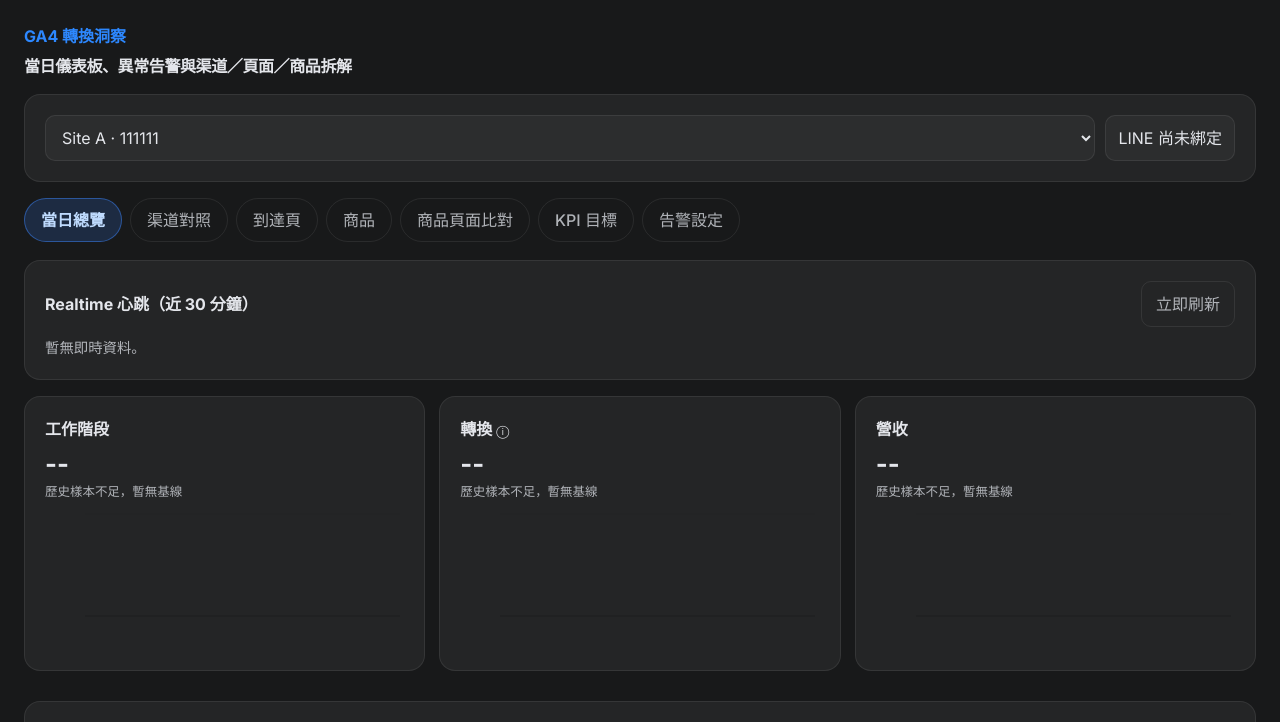
GA4Insights（docs/66 分頁狀態抽 hook） › 切到到達頁只載入一次；切走再切回來不重載，且篩選條件還在
Click the button "到達頁".
click(277, 220)  # box [236,198,318,242]
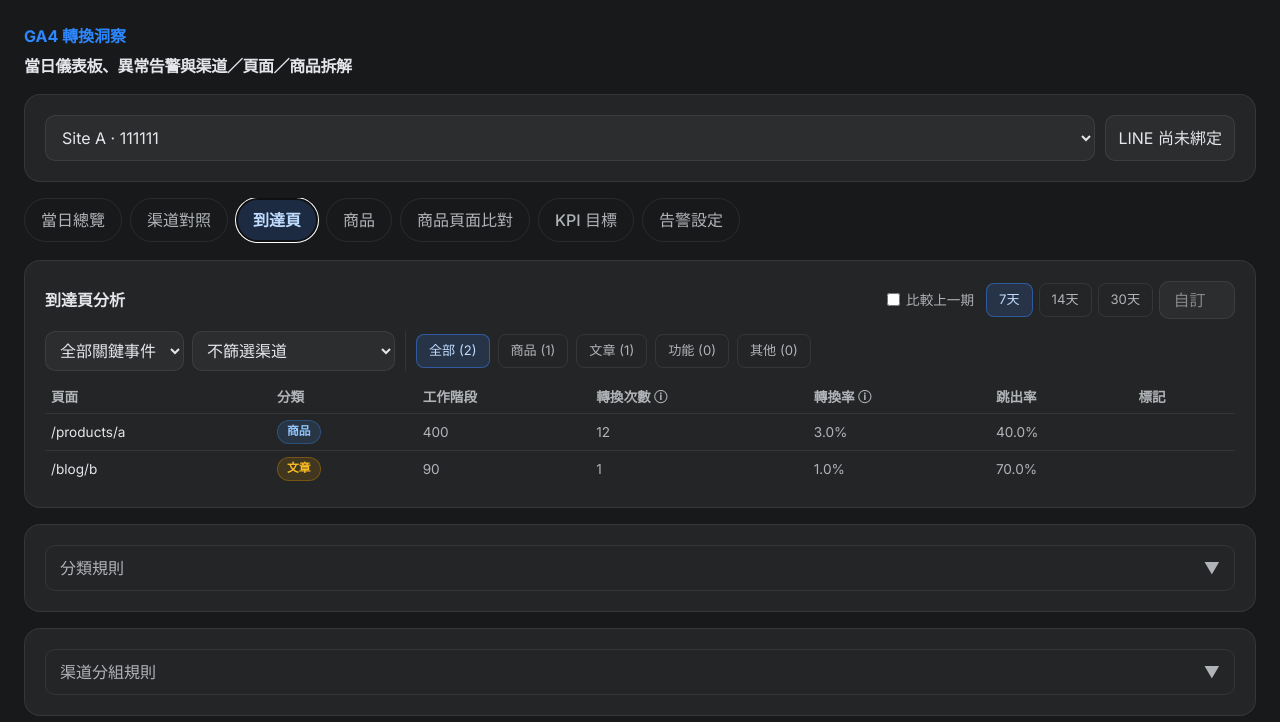
expect the text "/products/a" is shown: met, box [45,414,271,451]
Click the button "文章 (1)".
click(612, 351)  # box [576,334,647,368]
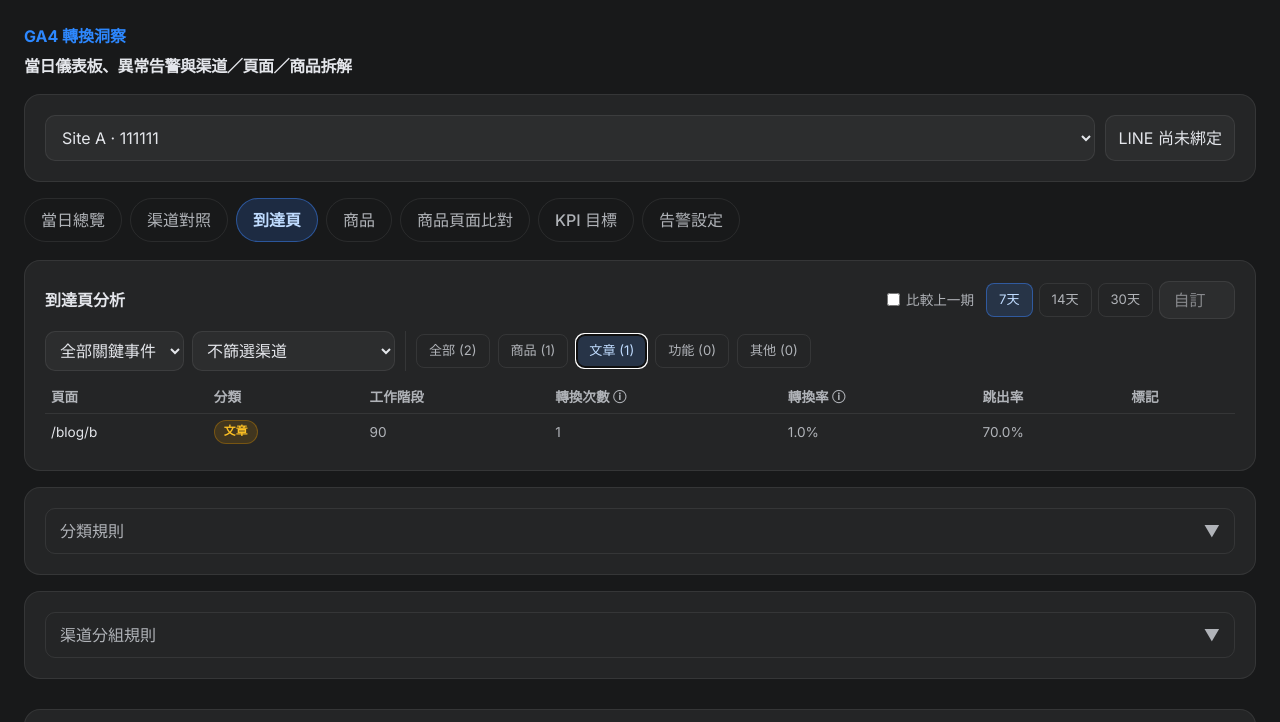
expect the text "/products/a" is gone: met
Click the button "商品".
click(359, 220)  # box [326,198,392,242]
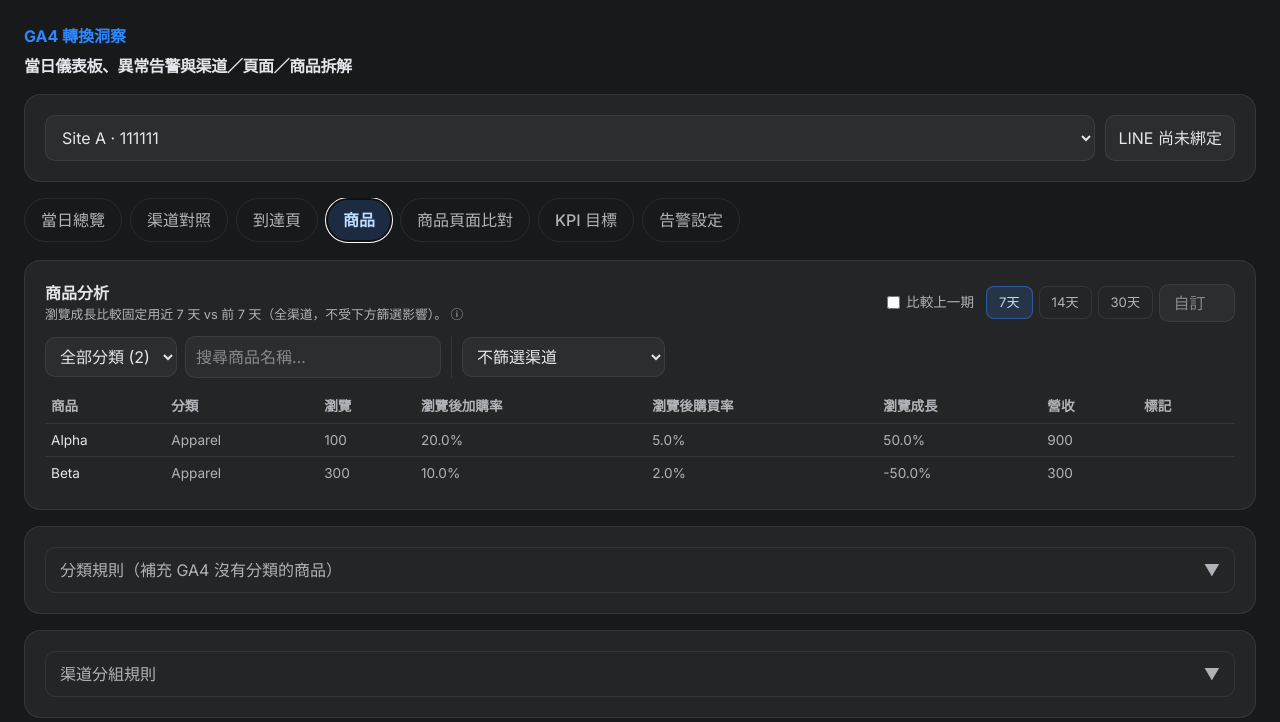
Click the button "到達頁".
click(277, 220)  # box [236,198,318,242]
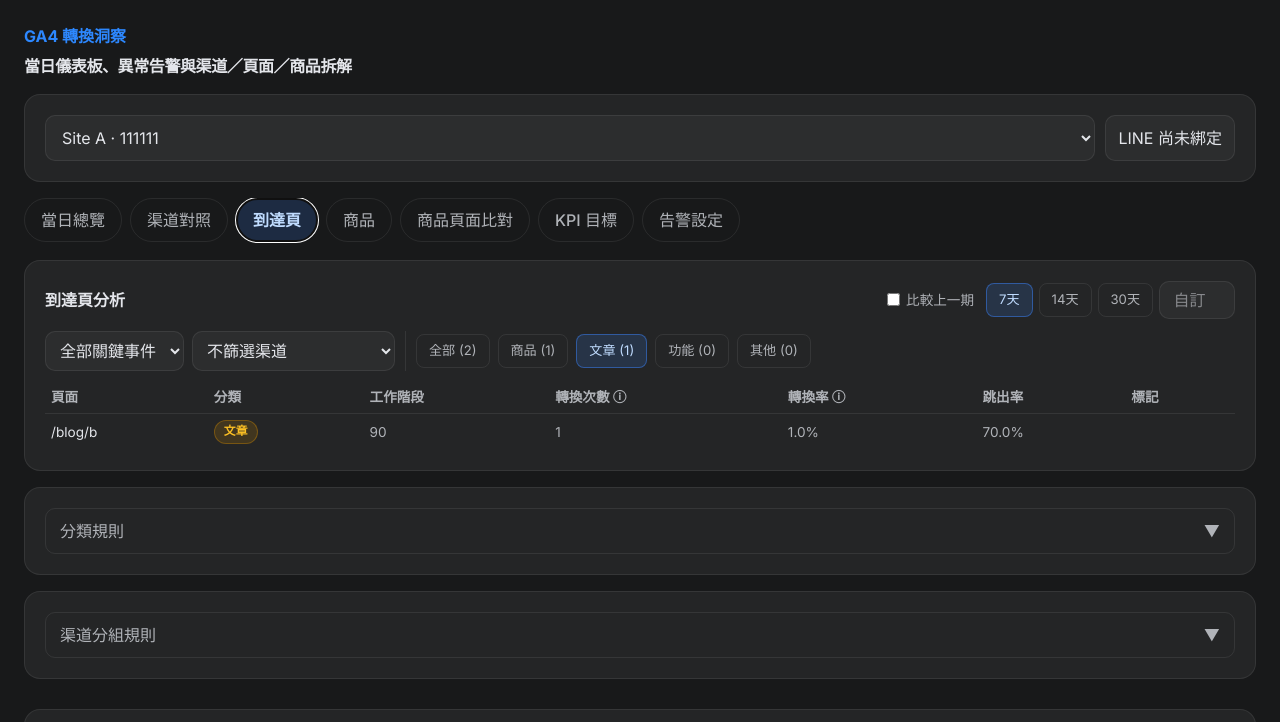
expect the text "/products/a" is not shown: met
expect the text "/blog/b" is shown: met, box [45,414,208,450]
